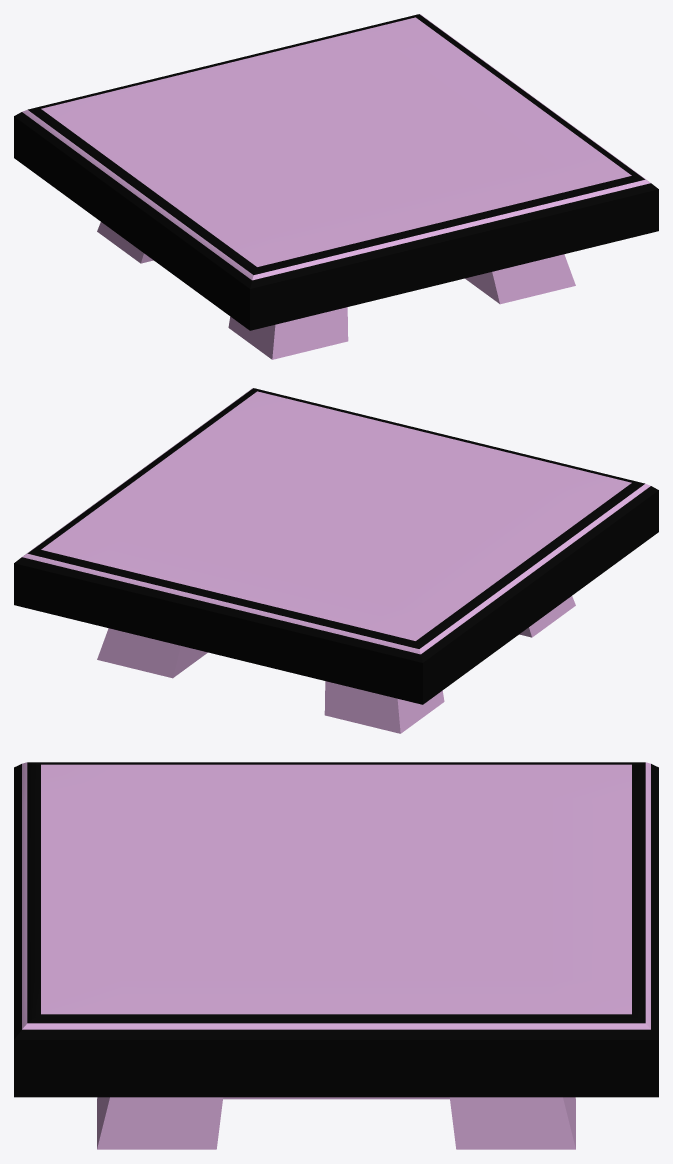
Rendered from SM_Island2 1.fbx.
3 views of the same model, one above another, from view 1: azimuth 30°, elevation 25°; view 2: azimuth 150°, elevation 25°; view 3: azimuth 270°, elevation 25° (orthographic). The views are drawn at different scales.
Parts seen in each view (by area): view 1: SM_Island2; view 2: SM_Island2; view 3: SM_Island2.
Part boxes in pixels (left/top/right/bottom): SM_Island2: left=14, top=14, right=658, bottom=359; SM_Island2: left=14, top=388, right=658, bottom=733; SM_Island2: left=14, top=762, right=658, bottom=1149.
Size of the model in its own units: 475 by 129 by 475.
